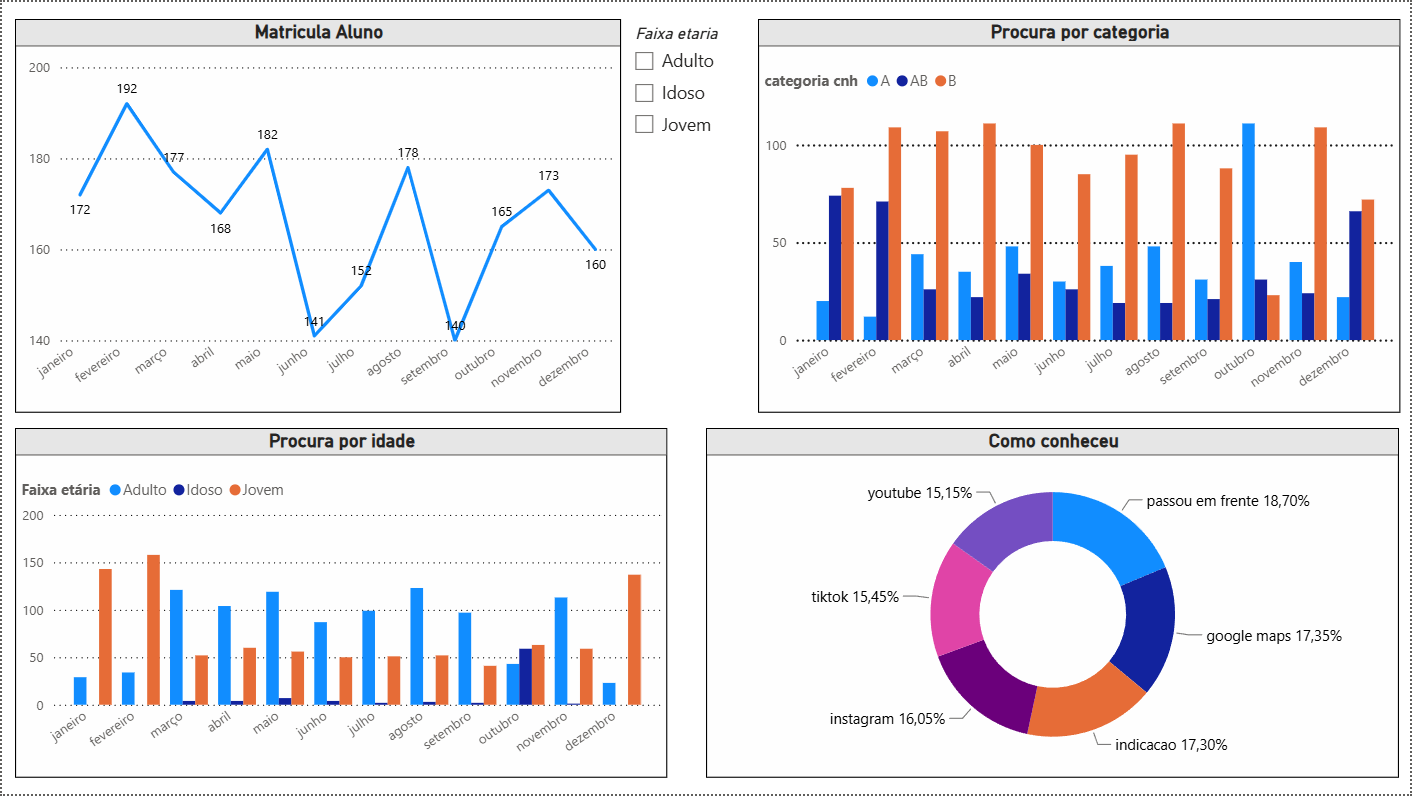

What the dashboard file says about the page in this screenshot:
{"tool":"powerbi","page":{"name":"Alunos","canvas":[1280,720],"ordinal":0},"visuals":[{"type":"lineChart","title":"Matricula Aluno","fields":{"Category":["tabela_matriculas.data_matricula.Variation.Hierarquia de datas.Mês"],"Y":["CountNonNull(tabela_matriculas.id_matricula)"]},"box":[11.6,15.2,550.7,358.2],"z":0},{"type":"clusteredColumnChart","title":"Procura por categoria","fields":{"Category":["tabela_matriculas.data_matricula.Variation.Hierarquia de datas.Mês"],"Y":["CountNonNull(tabela_matriculas.id_matricula)"],"Series":["tabela_matriculas.categoria_cnh"]},"box":[686.9,15.2,583.9,358.2],"z":1000},{"type":"slicer","fields":{"Values":["tabela_matriculas.Faixa_etaria"]},"box":[562.4,15.2,124.5,118.2],"z":2000},{"type":"clusteredColumnChart","title":"Procura por idade","fields":{"Category":["tabela_matriculas.data_matricula.Variation.Hierarquia de datas.Mês"],"Y":["CountNonNull(tabela_matriculas.id_matricula)"],"Series":["tabela_matriculas.Faixa_etaria"]},"box":[11.6,386.9,592.8,317.9],"z":3000},{"type":"donutChart","title":"Como conheceu","fields":{"Category":["tabela_alunos.meio_conheceu"],"Y":["CountNonNull(tabela_alunos.meio_conheceu)"]},"box":[640.3,386.9,630.4,317.9],"z":4000}]}

Visuals, with their boxes in screenshot pixels (x1, y1, x2, y2), scaled from the page's 1280x720 canvas onto the 1421x798 screenshot:
"Matricula Aluno" lineChart: bbox(13, 17, 624, 414)
"Procura por categoria" clusteredColumnChart: bbox(763, 17, 1411, 414)
slicer - tabela_matriculas.Faixa_etaria: bbox(624, 17, 763, 148)
"Procura por idade" clusteredColumnChart: bbox(13, 429, 671, 781)
"Como conheceu" donutChart: bbox(711, 429, 1411, 781)
